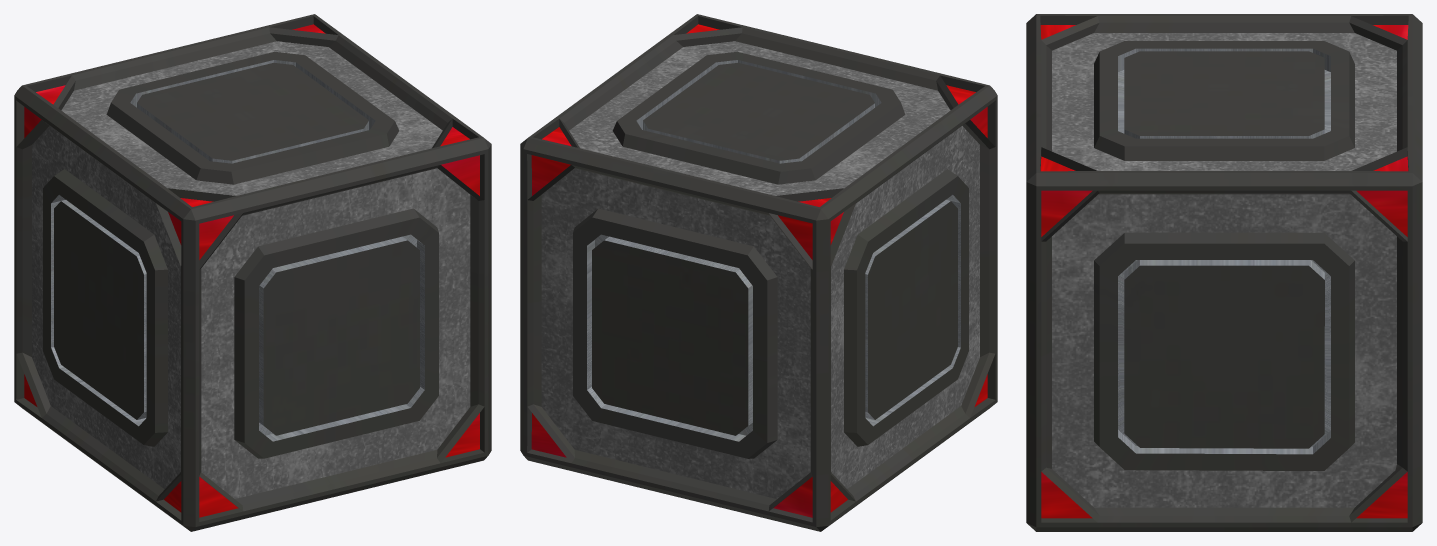
File: Crate.fbx
3 views of the same model, side by side, from view 1: azimuth 30°, elevation 25°; view 2: azimuth 150°, elevation 25°; view 3: azimuth 270°, elevation 25° (orthographic). The views are drawn at different scales.
Parts seen in each view (by area): view 1: Crate; view 2: Crate; view 3: Crate.
Part boxes in pixels (x1,y1,x2,y2): Crate: (14,14,491,531); Crate: (520,14,997,531); Crate: (1026,14,1422,531).
Bounding box in the file's own units: 1 × 1 × 1.
1 material, 1 textured.
